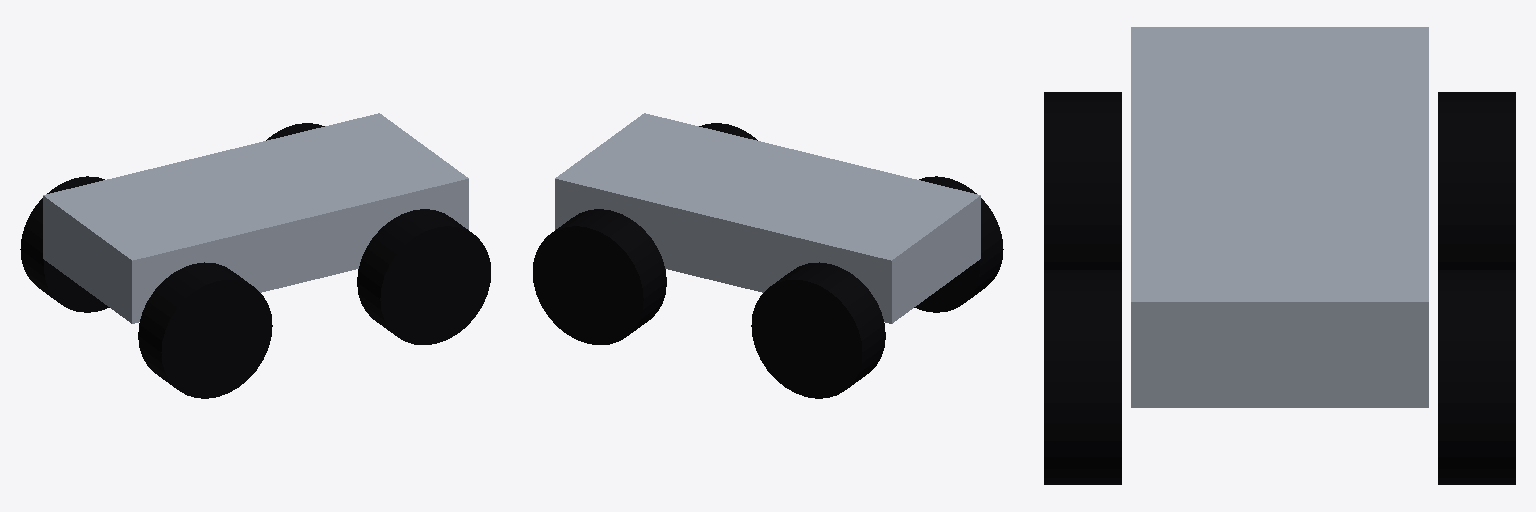
The robot description file, URDF, robot "hz_hunter_core":
<?xml version="1.0" ?>
<!-- =================================================================================== -->
<!-- |    This document was autogenerated by xacro from /home/aphelios/hz_sim_ws/src/hz_hunter_sim/urdf/hunter_core.urdf.xacro | -->
<!-- |    EDITING THIS FILE BY HAND IS NOT RECOMMENDED                                 | -->
<!-- =================================================================================== -->
<robot name="hz_hunter_core">
  <material name="chassis_gray">
    <color rgba="0.65 0.68 0.72 1"/>
  </material>
  <material name="tire_black">
    <color rgba="0.07 0.07 0.08 1"/>
  </material>
  <!-- base_link is the rear axle midpoint, at wheel center height. -->
  <link name="base_link">
    <inertial>
      <origin rpy="0 0 0" xyz="0.325 0 0.12"/>
      <mass value="50.0"/>
      <inertia ixx="1.0166666666666666" ixy="0" ixz="0" iyy="4.301666666666667" iyz="0" izz="5.048333333333333"/>
    </inertial>
    <visual>
      <origin xyz="0.325 0 0.12"/>
      <geometry>
        <box size="1.0 0.46 0.18"/>
      </geometry>
      <material name="chassis_gray"/>
    </visual>
    <collision>
      <origin xyz="0.325 0 0.12"/>
      <geometry>
        <box size="1.0 0.46 0.18"/>
      </geometry>
    </collision>
  </link>
  <link name="rear_left_wheel">
    <!-- Cylinder axis is Y in the link frame. -->
    <inertial>
      <mass value="2.0"/>
      <inertia ixx="0.016012500000000002" ixy="0" ixz="0" iyy="0.027225000000000003" iyz="0" izz="0.016012500000000002"/>
    </inertial>
    <visual>
      <origin rpy="1.5707963267948966 0 0"/>
      <geometry>
        <cylinder length="0.12" radius="0.165"/>
      </geometry>
      <material name="tire_black"/>
    </visual>
    <collision>
      <origin rpy="1.5707963267948966 0 0"/>
      <geometry>
        <cylinder length="0.12" radius="0.165"/>
      </geometry>
    </collision>
  </link>
  <joint name="rear_left_wheel_joint" type="continuous">
    <parent link="base_link"/>
    <child link="rear_left_wheel"/>
    <origin xyz="0 0.3025 0"/>
    <axis xyz="0 1 0"/>
    <limit effort="20.0" velocity="9.09090909090909"/>
    <dynamics damping="0.02" friction="0.0"/>
  </joint>
  <link name="rear_right_wheel">
    <!-- Cylinder axis is Y in the link frame. -->
    <inertial>
      <mass value="2.0"/>
      <inertia ixx="0.016012500000000002" ixy="0" ixz="0" iyy="0.027225000000000003" iyz="0" izz="0.016012500000000002"/>
    </inertial>
    <visual>
      <origin rpy="1.5707963267948966 0 0"/>
      <geometry>
        <cylinder length="0.12" radius="0.165"/>
      </geometry>
      <material name="tire_black"/>
    </visual>
    <collision>
      <origin rpy="1.5707963267948966 0 0"/>
      <geometry>
        <cylinder length="0.12" radius="0.165"/>
      </geometry>
    </collision>
  </link>
  <joint name="rear_right_wheel_joint" type="continuous">
    <parent link="base_link"/>
    <child link="rear_right_wheel"/>
    <origin xyz="0 -0.3025 0"/>
    <axis xyz="0 1 0"/>
    <limit effort="20.0" velocity="9.09090909090909"/>
    <dynamics damping="0.02" friction="0.0"/>
  </joint>
  <link name="front_left_knuckle">
    <inertial>
      <origin rpy="0 0 0" xyz="0 0 0"/>
      <mass value="1.0"/>
      <inertia ixx="0.00041666666666666675" ixy="0" ixz="0" iyy="0.00041666666666666675" iyz="0" izz="0.00041666666666666675"/>
    </inertial>
  </link>
  <joint name="front_left_steering_joint" type="revolute">
    <parent link="base_link"/>
    <child link="front_left_knuckle"/>
    <origin xyz="0.65 0.3025 0"/>
    <axis xyz="0 0 1"/>
    <limit effort="10.0" lower="-0.58" upper="0.58" velocity="2.0"/>
    <dynamics damping="0.1" friction="0.0"/>
  </joint>
  <link name="front_left_wheel">
    <!-- Cylinder axis is Y in the link frame. -->
    <inertial>
      <mass value="2.0"/>
      <inertia ixx="0.016012500000000002" ixy="0" ixz="0" iyy="0.027225000000000003" iyz="0" izz="0.016012500000000002"/>
    </inertial>
    <visual>
      <origin rpy="1.5707963267948966 0 0"/>
      <geometry>
        <cylinder length="0.12" radius="0.165"/>
      </geometry>
      <material name="tire_black"/>
    </visual>
    <collision>
      <origin rpy="1.5707963267948966 0 0"/>
      <geometry>
        <cylinder length="0.12" radius="0.165"/>
      </geometry>
    </collision>
  </link>
  <joint name="front_left_wheel_joint" type="continuous">
    <parent link="front_left_knuckle"/>
    <child link="front_left_wheel"/>
    <origin xyz="0 0 0"/>
    <axis xyz="0 1 0"/>
    <limit effort="20.0" velocity="9.09090909090909"/>
    <dynamics damping="0.02" friction="0.0"/>
  </joint>
  <link name="front_right_knuckle">
    <inertial>
      <origin rpy="0 0 0" xyz="0 0 0"/>
      <mass value="1.0"/>
      <inertia ixx="0.00041666666666666675" ixy="0" ixz="0" iyy="0.00041666666666666675" iyz="0" izz="0.00041666666666666675"/>
    </inertial>
  </link>
  <joint name="front_right_steering_joint" type="revolute">
    <parent link="base_link"/>
    <child link="front_right_knuckle"/>
    <origin xyz="0.65 -0.3025 0"/>
    <axis xyz="0 0 1"/>
    <limit effort="10.0" lower="-0.58" upper="0.58" velocity="2.0"/>
    <dynamics damping="0.1" friction="0.0"/>
  </joint>
  <link name="front_right_wheel">
    <!-- Cylinder axis is Y in the link frame. -->
    <inertial>
      <mass value="2.0"/>
      <inertia ixx="0.016012500000000002" ixy="0" ixz="0" iyy="0.027225000000000003" iyz="0" izz="0.016012500000000002"/>
    </inertial>
    <visual>
      <origin rpy="1.5707963267948966 0 0"/>
      <geometry>
        <cylinder length="0.12" radius="0.165"/>
      </geometry>
      <material name="tire_black"/>
    </visual>
    <collision>
      <origin rpy="1.5707963267948966 0 0"/>
      <geometry>
        <cylinder length="0.12" radius="0.165"/>
      </geometry>
    </collision>
  </link>
  <joint name="front_right_wheel_joint" type="continuous">
    <parent link="front_right_knuckle"/>
    <child link="front_right_wheel"/>
    <origin xyz="0 0 0"/>
    <axis xyz="0 1 0"/>
    <limit effort="20.0" velocity="9.09090909090909"/>
    <dynamics damping="0.02" friction="0.0"/>
  </joint>
</robot>

--- Render facts (derived) ---
Views: 3 orthographic renders of the robot side by side, from view 1: azimuth 30°, elevation 25°; view 2: azimuth 150°, elevation 25°; view 3: azimuth 270°, elevation 25°.
Robot: hz_hunter_core — 7 links, 6 joints (2 revolute, 4 continuous); root link base_link; default pose: every joint at zero.
Links seen in each view (by area): view 1: base_link, front_right_wheel, rear_right_wheel, rear_left_wheel; view 2: base_link, front_left_wheel, rear_left_wheel, rear_right_wheel; view 3: base_link, front_left_wheel, front_right_wheel, rear_left_wheel, rear_right_wheel.
Link boxes in pixels (x1,y1,x2,y2): base_link: [43, 113, 468, 323]; front_right_wheel: [357, 209, 490, 344]; rear_right_wheel: [138, 262, 272, 398]; rear_left_wheel: [20, 176, 109, 312]; base_link: [555, 113, 980, 323]; front_left_wheel: [533, 209, 666, 344]; rear_left_wheel: [751, 262, 885, 398]; rear_right_wheel: [914, 176, 1003, 312]; base_link: [1131, 27, 1428, 407]; front_left_wheel: [1438, 270, 1515, 484]; front_right_wheel: [1044, 270, 1121, 484]; rear_left_wheel: [1438, 92, 1515, 269]; rear_right_wheel: [1044, 92, 1121, 269].
Bounding box of the posed robot: 1 × 0.725 × 0.375 m (x, y, z).
Geometry: primitives only (box / cylinder / sphere), no mesh files.
